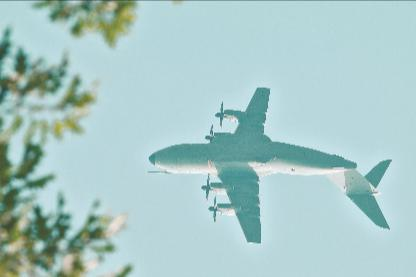A400M: (144, 87, 392, 243)
